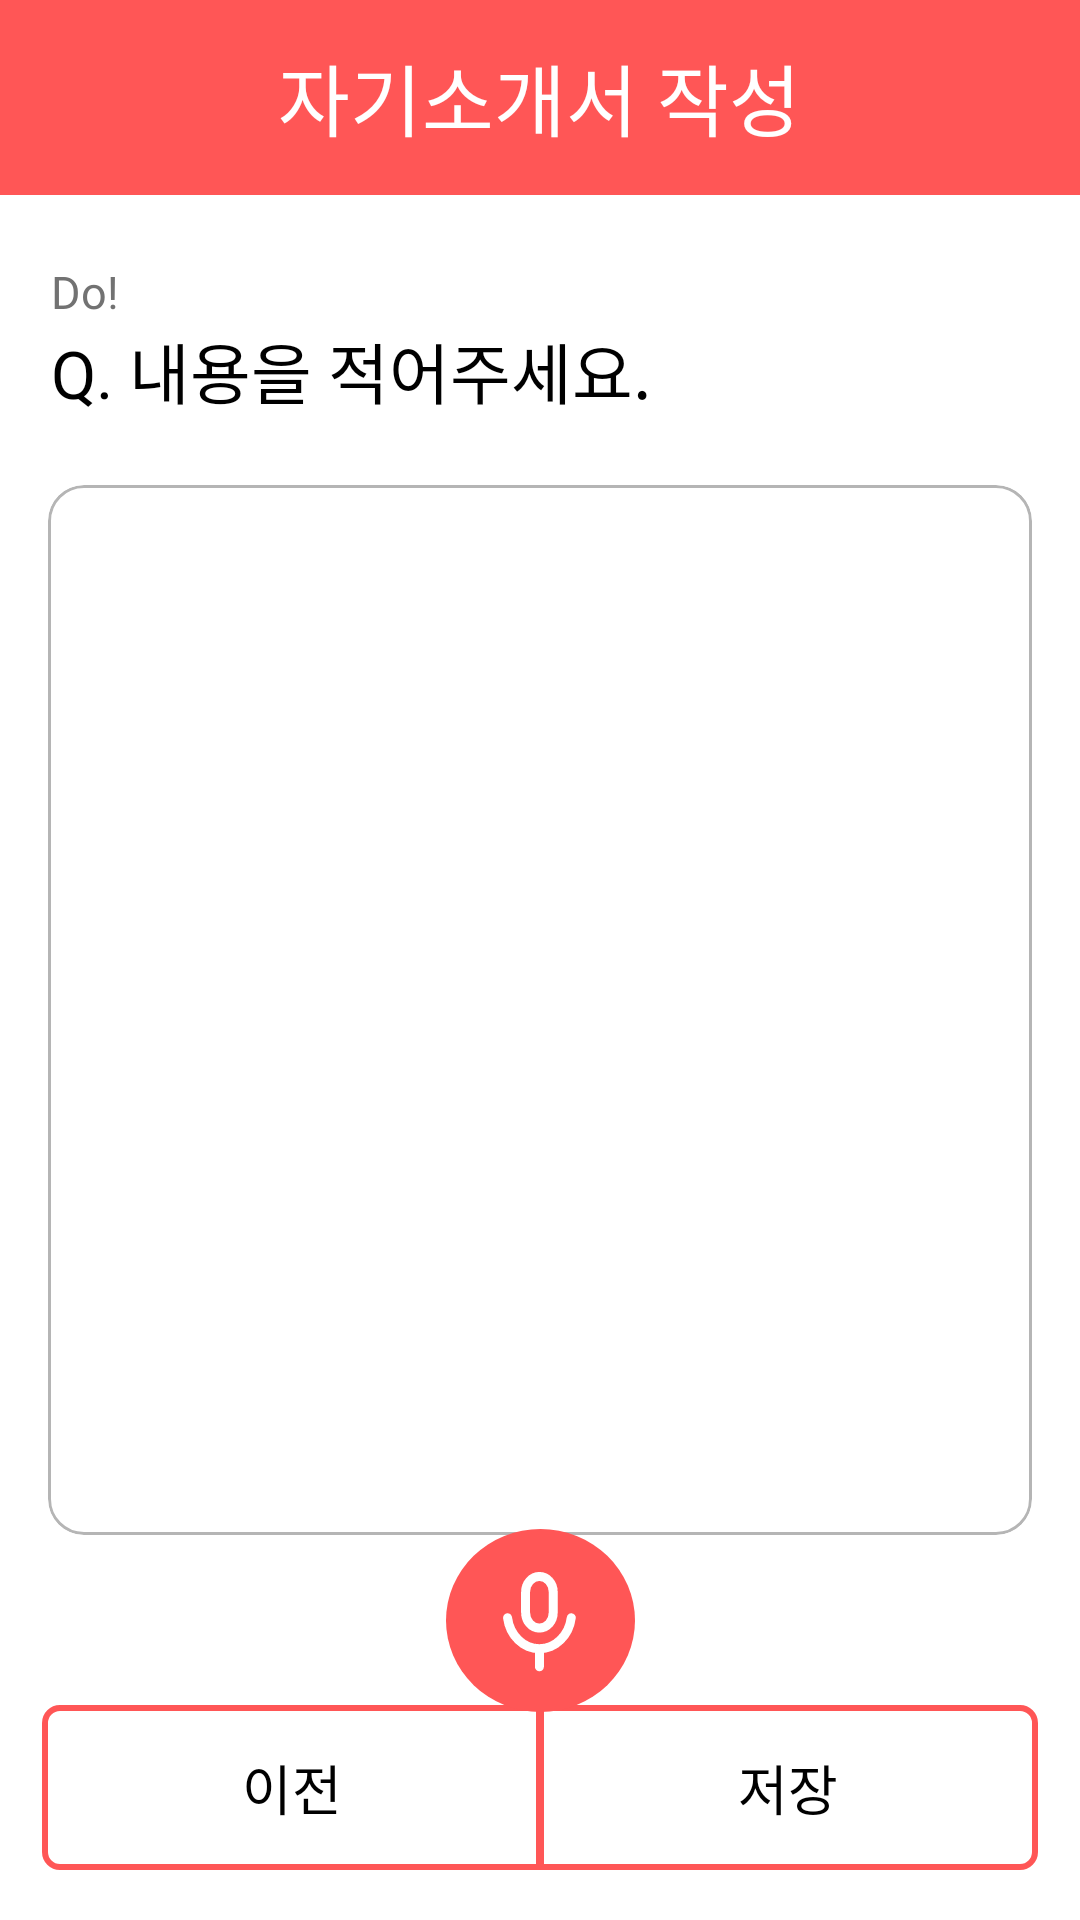

Icon click points for this 1080*1920 phone screenshot, format [x,y]:
mic: [540,1620]
